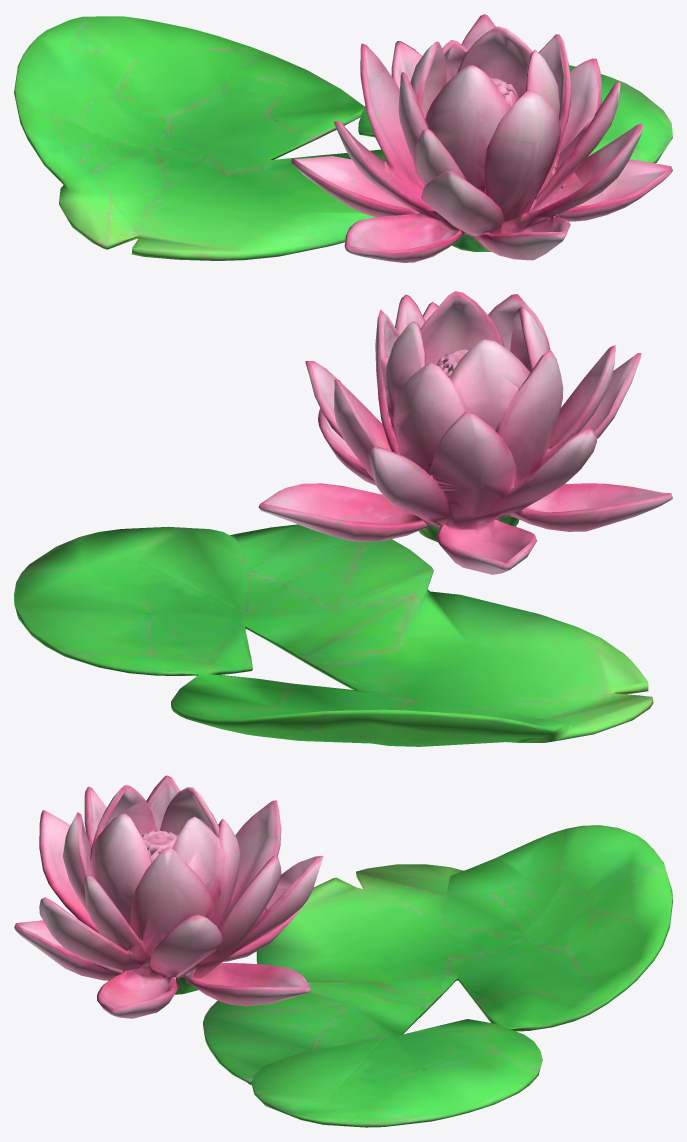
File: lotus.glb
3 views of the same model, one above another, from view 1: azimuth 30°, elevation 25°; view 2: azimuth 150°, elevation 25°; view 3: azimuth 270°, elevation 25° (orthographic). The views are drawn at different scales.
Size of the model in its own units: 1.77 by 0.6752 by 1.91.
1 material, 1 textured.
